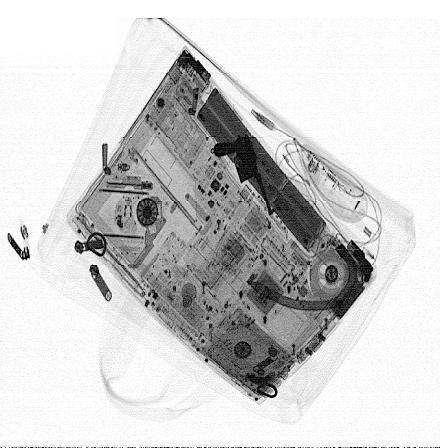Gun: (212, 136, 272, 217)
